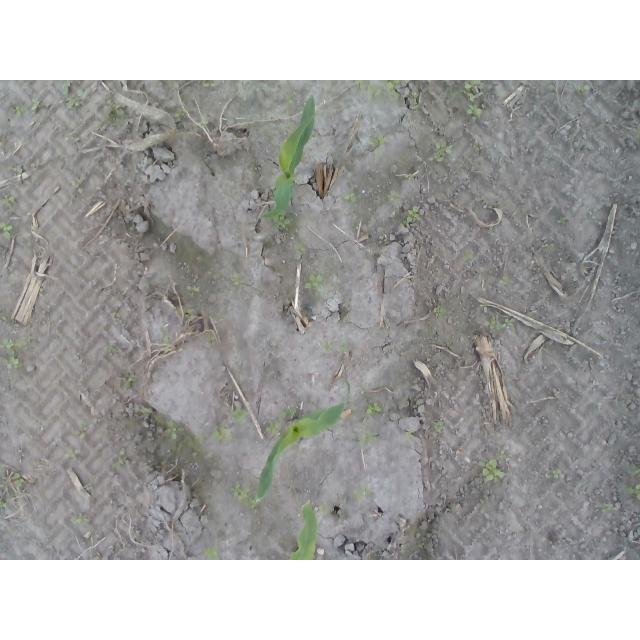Maize: (256, 371, 352, 506), (263, 93, 318, 224), (288, 504, 320, 561)
Weeds: (479, 449, 513, 483), (479, 314, 513, 338), (230, 481, 259, 509), (354, 80, 402, 96), (1, 332, 32, 352), (103, 102, 129, 123), (264, 212, 289, 232), (111, 446, 129, 471), (73, 418, 88, 443), (464, 80, 481, 102), (433, 142, 451, 162), (402, 206, 422, 224), (159, 326, 172, 353), (4, 353, 24, 370), (351, 485, 369, 503), (120, 369, 136, 389), (623, 483, 640, 501), (232, 407, 248, 425), (71, 512, 89, 528), (464, 103, 481, 119), (367, 402, 385, 417), (303, 274, 321, 289), (213, 428, 231, 443), (0, 222, 14, 241), (71, 175, 85, 194), (265, 420, 281, 436), (203, 546, 221, 560), (163, 423, 177, 441), (360, 431, 376, 446), (1, 193, 16, 209), (410, 92, 421, 113), (342, 191, 358, 205), (64, 449, 80, 463), (175, 108, 186, 128), (320, 339, 334, 354), (433, 304, 448, 318), (279, 407, 298, 418), (627, 462, 640, 478), (30, 96, 42, 113), (239, 80, 250, 98), (161, 81, 179, 92), (387, 190, 401, 204), (431, 419, 445, 433), (66, 96, 81, 109), (64, 130, 80, 142), (184, 287, 200, 298), (598, 503, 614, 514), (368, 135, 385, 145), (181, 307, 193, 321), (14, 473, 26, 487), (498, 275, 513, 286), (318, 502, 331, 514), (576, 85, 590, 96), (248, 158, 257, 175), (256, 84, 273, 93), (202, 80, 220, 88), (30, 160, 46, 169), (231, 274, 242, 287), (449, 88, 463, 98), (103, 344, 118, 353), (462, 249, 474, 260), (12, 168, 26, 177), (294, 243, 306, 253), (63, 80, 70, 97), (16, 104, 29, 113), (405, 431, 416, 441), (339, 343, 350, 353), (111, 309, 122, 319), (286, 94, 295, 106), (552, 467, 561, 479), (142, 407, 151, 418), (76, 88, 88, 96), (207, 335, 216, 345), (0, 498, 8, 509), (286, 119, 294, 130), (0, 311, 8, 321), (558, 216, 568, 224), (543, 242, 553, 250), (472, 144, 481, 152), (403, 175, 413, 182), (1, 136, 8, 145), (37, 288, 43, 296), (399, 544, 405, 552)
